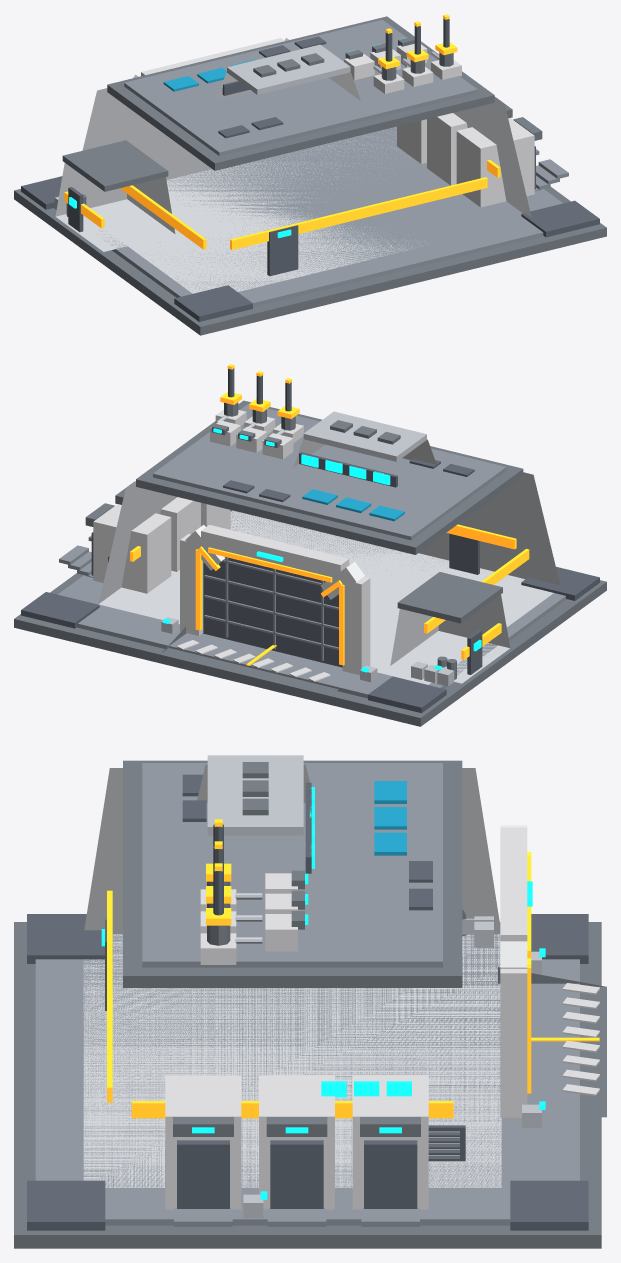
File: kenney_style_aircraft_factory.glb
3 views of the same model, one above another, from view 1: azimuth 30°, elevation 25°; view 2: azimuth 150°, elevation 25°; view 3: azimuth 270°, elevation 25° (orthographic). The views are drawn at different scales.
Parts seen in each view (by area): view 1: foundation_inner, main_factory, roof_deck_inner, foundation, roof_deck, bay_housing_2, left_annex, left_annex_roof, office_roof, stripe_rear, bay_housing_1, corner_pad_-1_1 (+12 smaller); view 2: main_factory, roof_deck_inner, foundation_inner, main_door, foundation, roof_deck, bay_housing_0, left_annex, left_annex_roof, frame_top, office_roof, frame_left (+19 smaller); view 3: foundation_inner, main_factory, roof_deck_inner, foundation, roof_deck, office_roof, bay_housing_2, bay_housing_1, bay_housing_0, frame_right, corner_pad_1_-1, corner_pad_1_1 (+22 smaller).
Boxes of the visible parts, x1,y1,x2,y2 form: foundation_inner: (54,126,562,307); main_factory: (82,88,531,293); roof_deck_inner: (124,19,477,156); foundation: (14,187,606,335); roof_deck: (107,16,494,170); bay_housing_2: (456,118,534,207); left_annex: (55,163,175,251); left_annex_roof: (62,140,168,191); office_roof: (227,44,350,94); stripe_rear: (230,177,487,250); bay_housing_1: (427,113,467,185); corner_pad_-1_1: (174,285,252,321); main_factory: (98,472,559,684); roof_deck_inner: (153,404,506,540); foundation_inner: (58,510,566,698); main_door: (203,557,342,667); foundation: (14,573,606,726); roof_deck: (136,400,523,554); bay_housing_0: (93,504,171,593); left_annex: (390,594,510,683); left_annex_roof: (397,572,502,623); frame_top: (201,525,349,580); office_roof: (303,411,426,461); frame_left: (342,576,370,675); foundation_inner: (35,934,579,1225); main_factory: (83,768,501,1187); roof_deck_inner: (142,763,442,967); foundation: (14,922,601,1248); roof_deck: (123,760,462,987); office_roof: (207,755,303,835); bay_housing_2: (165,1075,241,1209); bay_housing_1: (259,1075,334,1209); bay_housing_0: (352,1075,428,1209); frame_right: (500,968,527,1117); corner_pad_1_-1: (510,1180,588,1230); corner_pad_1_1: (27,1180,105,1230).
Bounding box in the file's own units: 17.53 × 7.86 × 13.62.
